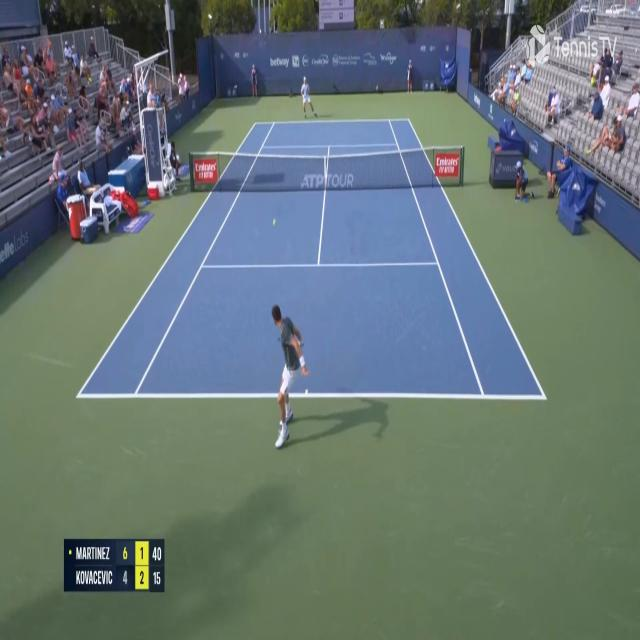tennis-player: (270, 301, 311, 458), (298, 76, 318, 120)
